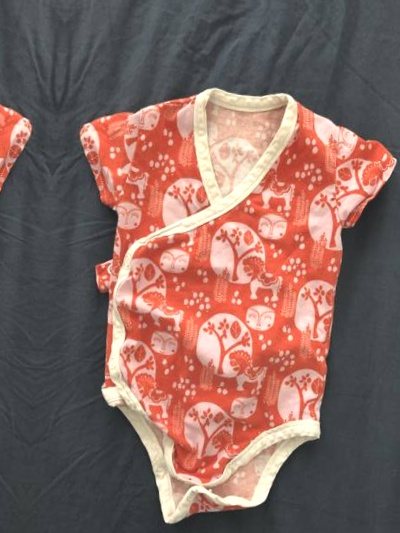Body: (52, 76, 393, 533), (0, 46, 31, 515)
